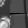mirror: (0, 0, 10, 13)
